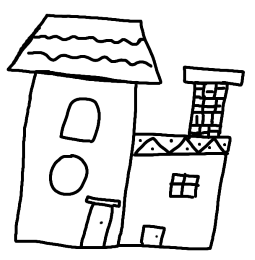big_house: (0, 0, 254, 259)
chimney: (170, 63, 249, 145)
closed_window: (161, 165, 203, 203)
door: (75, 194, 121, 253), (137, 213, 168, 255)
open_window: (54, 86, 104, 145), (43, 151, 91, 199)
roof: (5, 7, 162, 91), (120, 129, 240, 164)
wall: (13, 61, 142, 253)
